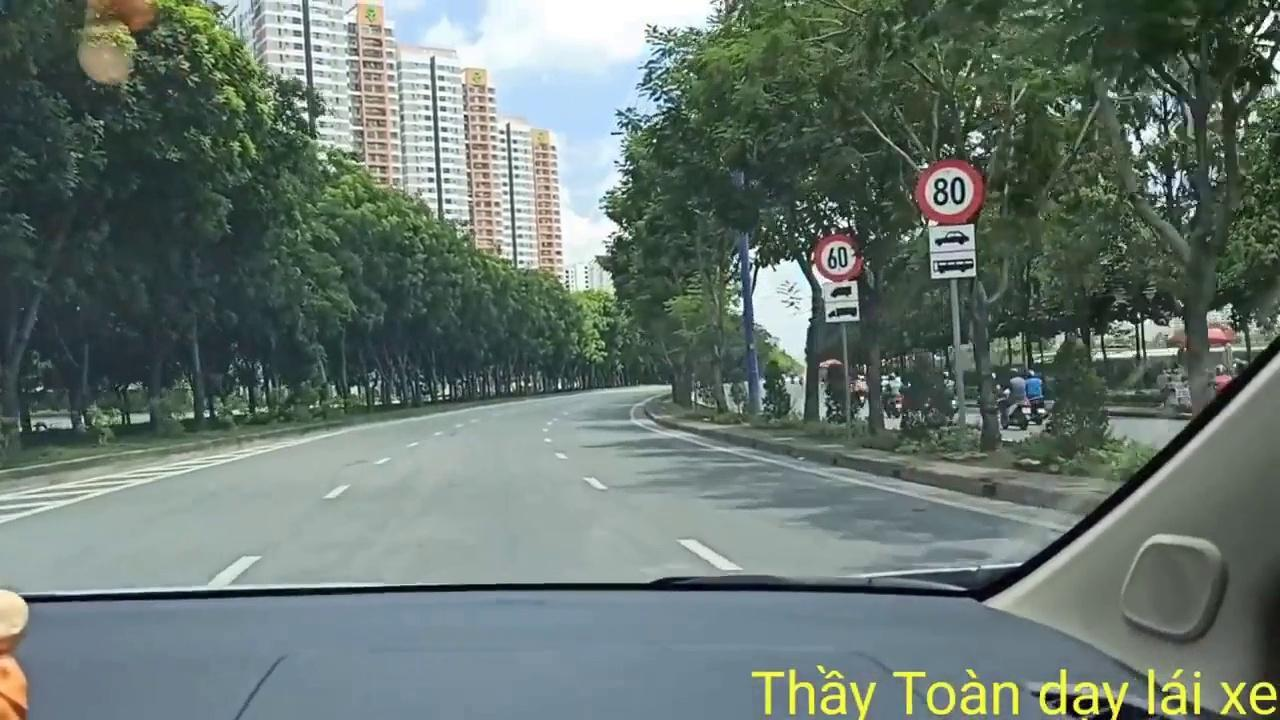Biển phụ: (929, 226, 976, 279), (824, 280, 860, 324)
GIơi hạn tốc độ 60Km/h: (814, 233, 862, 279)
Giới hạn tốc độ 80Km/h: (914, 158, 984, 223)
